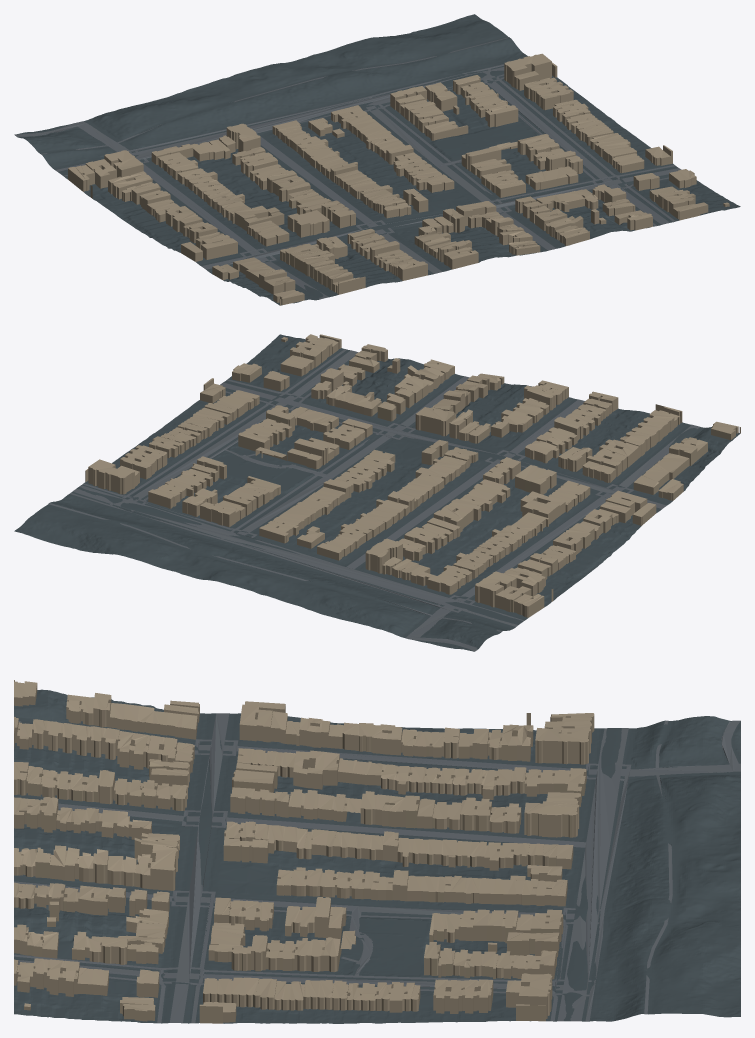
File: epsg26910-1419-10887.lod0.glb
3 views of the same model, one above another, from view 1: azimuth 30°, elevation 25°; view 2: azimuth 150°, elevation 25°; view 3: azimuth 270°, elevation 25° (orthographic). The views are drawn at different scales.
Parts seen in each view (by area): view 1: epsg26910-1419-10887-lod0; view 2: epsg26910-1419-10887-lod0; view 3: epsg26910-1419-10887-lod0.
Part boxes in pixels (left/top/right/bottom): epsg26910-1419-10887-lod0: left=14, top=14, right=740, bottom=305; epsg26910-1419-10887-lod0: left=14, top=334, right=740, bottom=651; epsg26910-1419-10887-lod0: left=14, top=680, right=740, bottom=1023.
Bounding box in the file's own units: 384 × 31.05 × 384.
